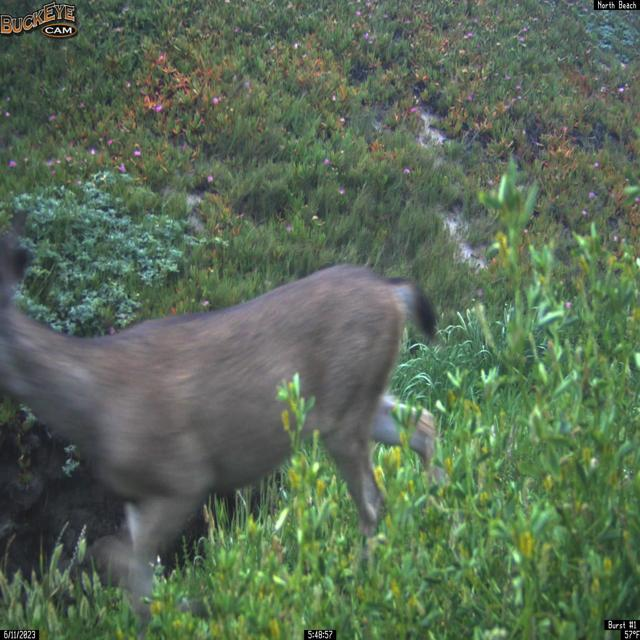deer: (0, 208, 439, 636)
